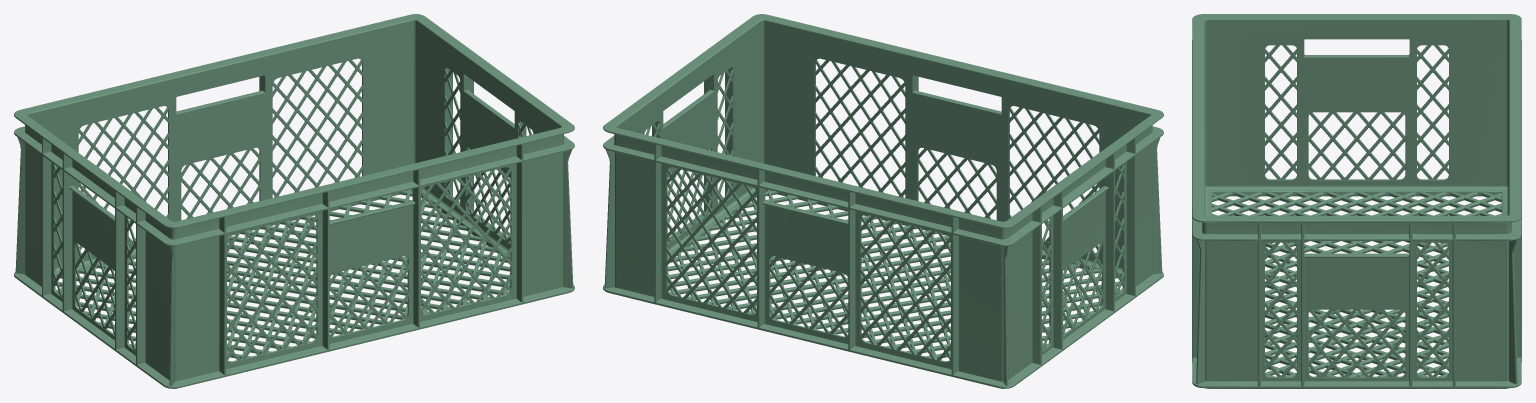
File: crate_green_a02.glb
3 renders of one model, left to right at view 1: azimuth 30°, elevation 25°; view 2: azimuth 150°, elevation 25°; view 3: azimuth 270°, elevation 25°, orthographic. The views are drawn at different scales.
Size of the model in its own units: 0.6117 by 0.2403 by 0.4116.
